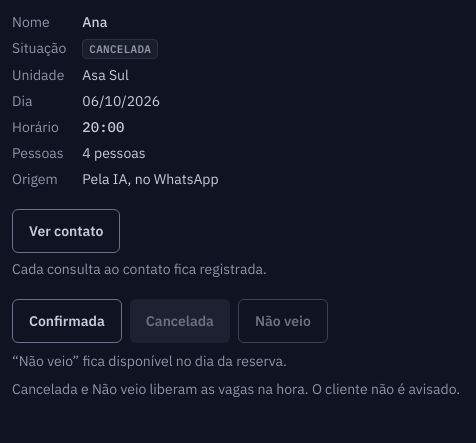
Test: ReservaDetalhe › reconfirmar sem vaga: a mensagem aparece no detalhe e nada muda
Step 1. Click the button "Confirmada" → click(67, 321), box [12,299,122,343]
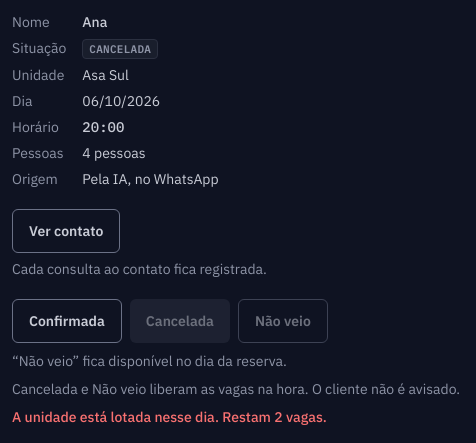
expect the message reads "A unidade está lotada nesse dia. Restam 2 vagas.": met, box [12,408,327,426]
